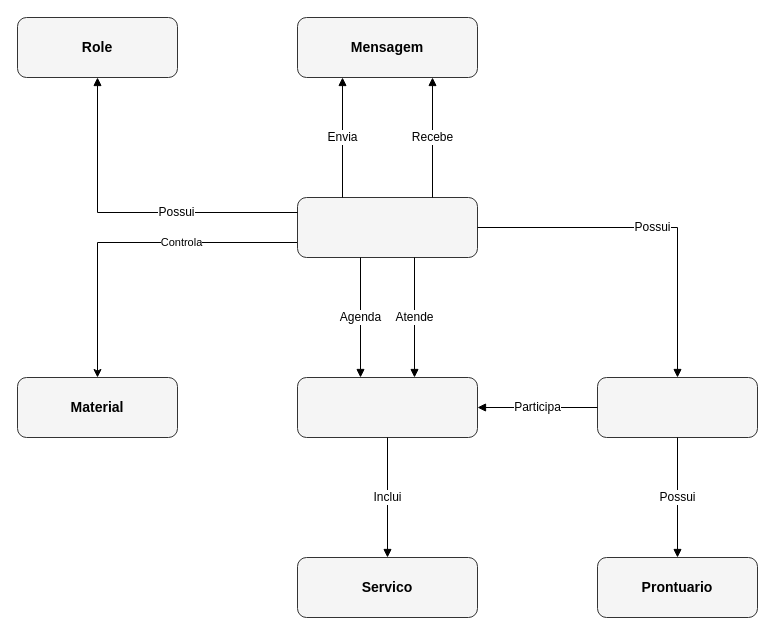
Some shapes in this 775 by 635 pixel diagram are drawn without their labels. The centre of each missing label's shape, as x and y in pixels:
"Agendamento" belongs at (387,407).
"Animal" belongs at (677,407).
"Usuario" belongs at (387,227).
